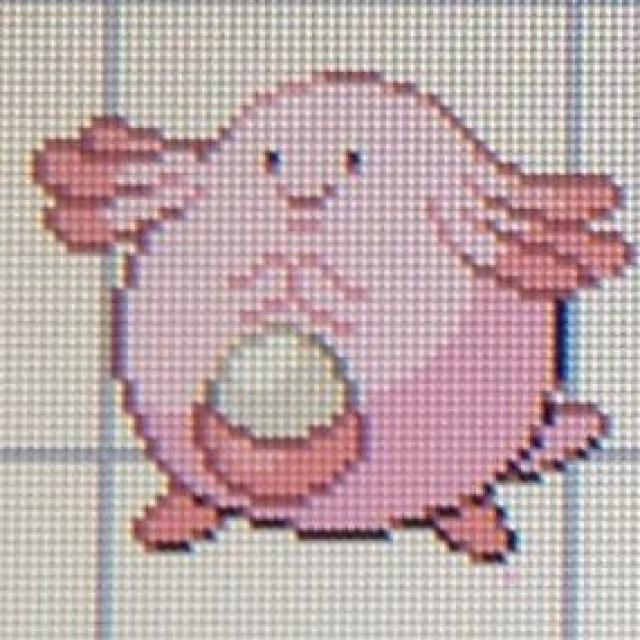Chansey: (41, 64, 620, 564)
